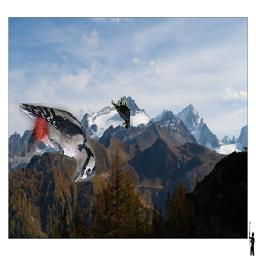Crow: (112, 97, 131, 129)
Woodpecker: (19, 104, 95, 183)
